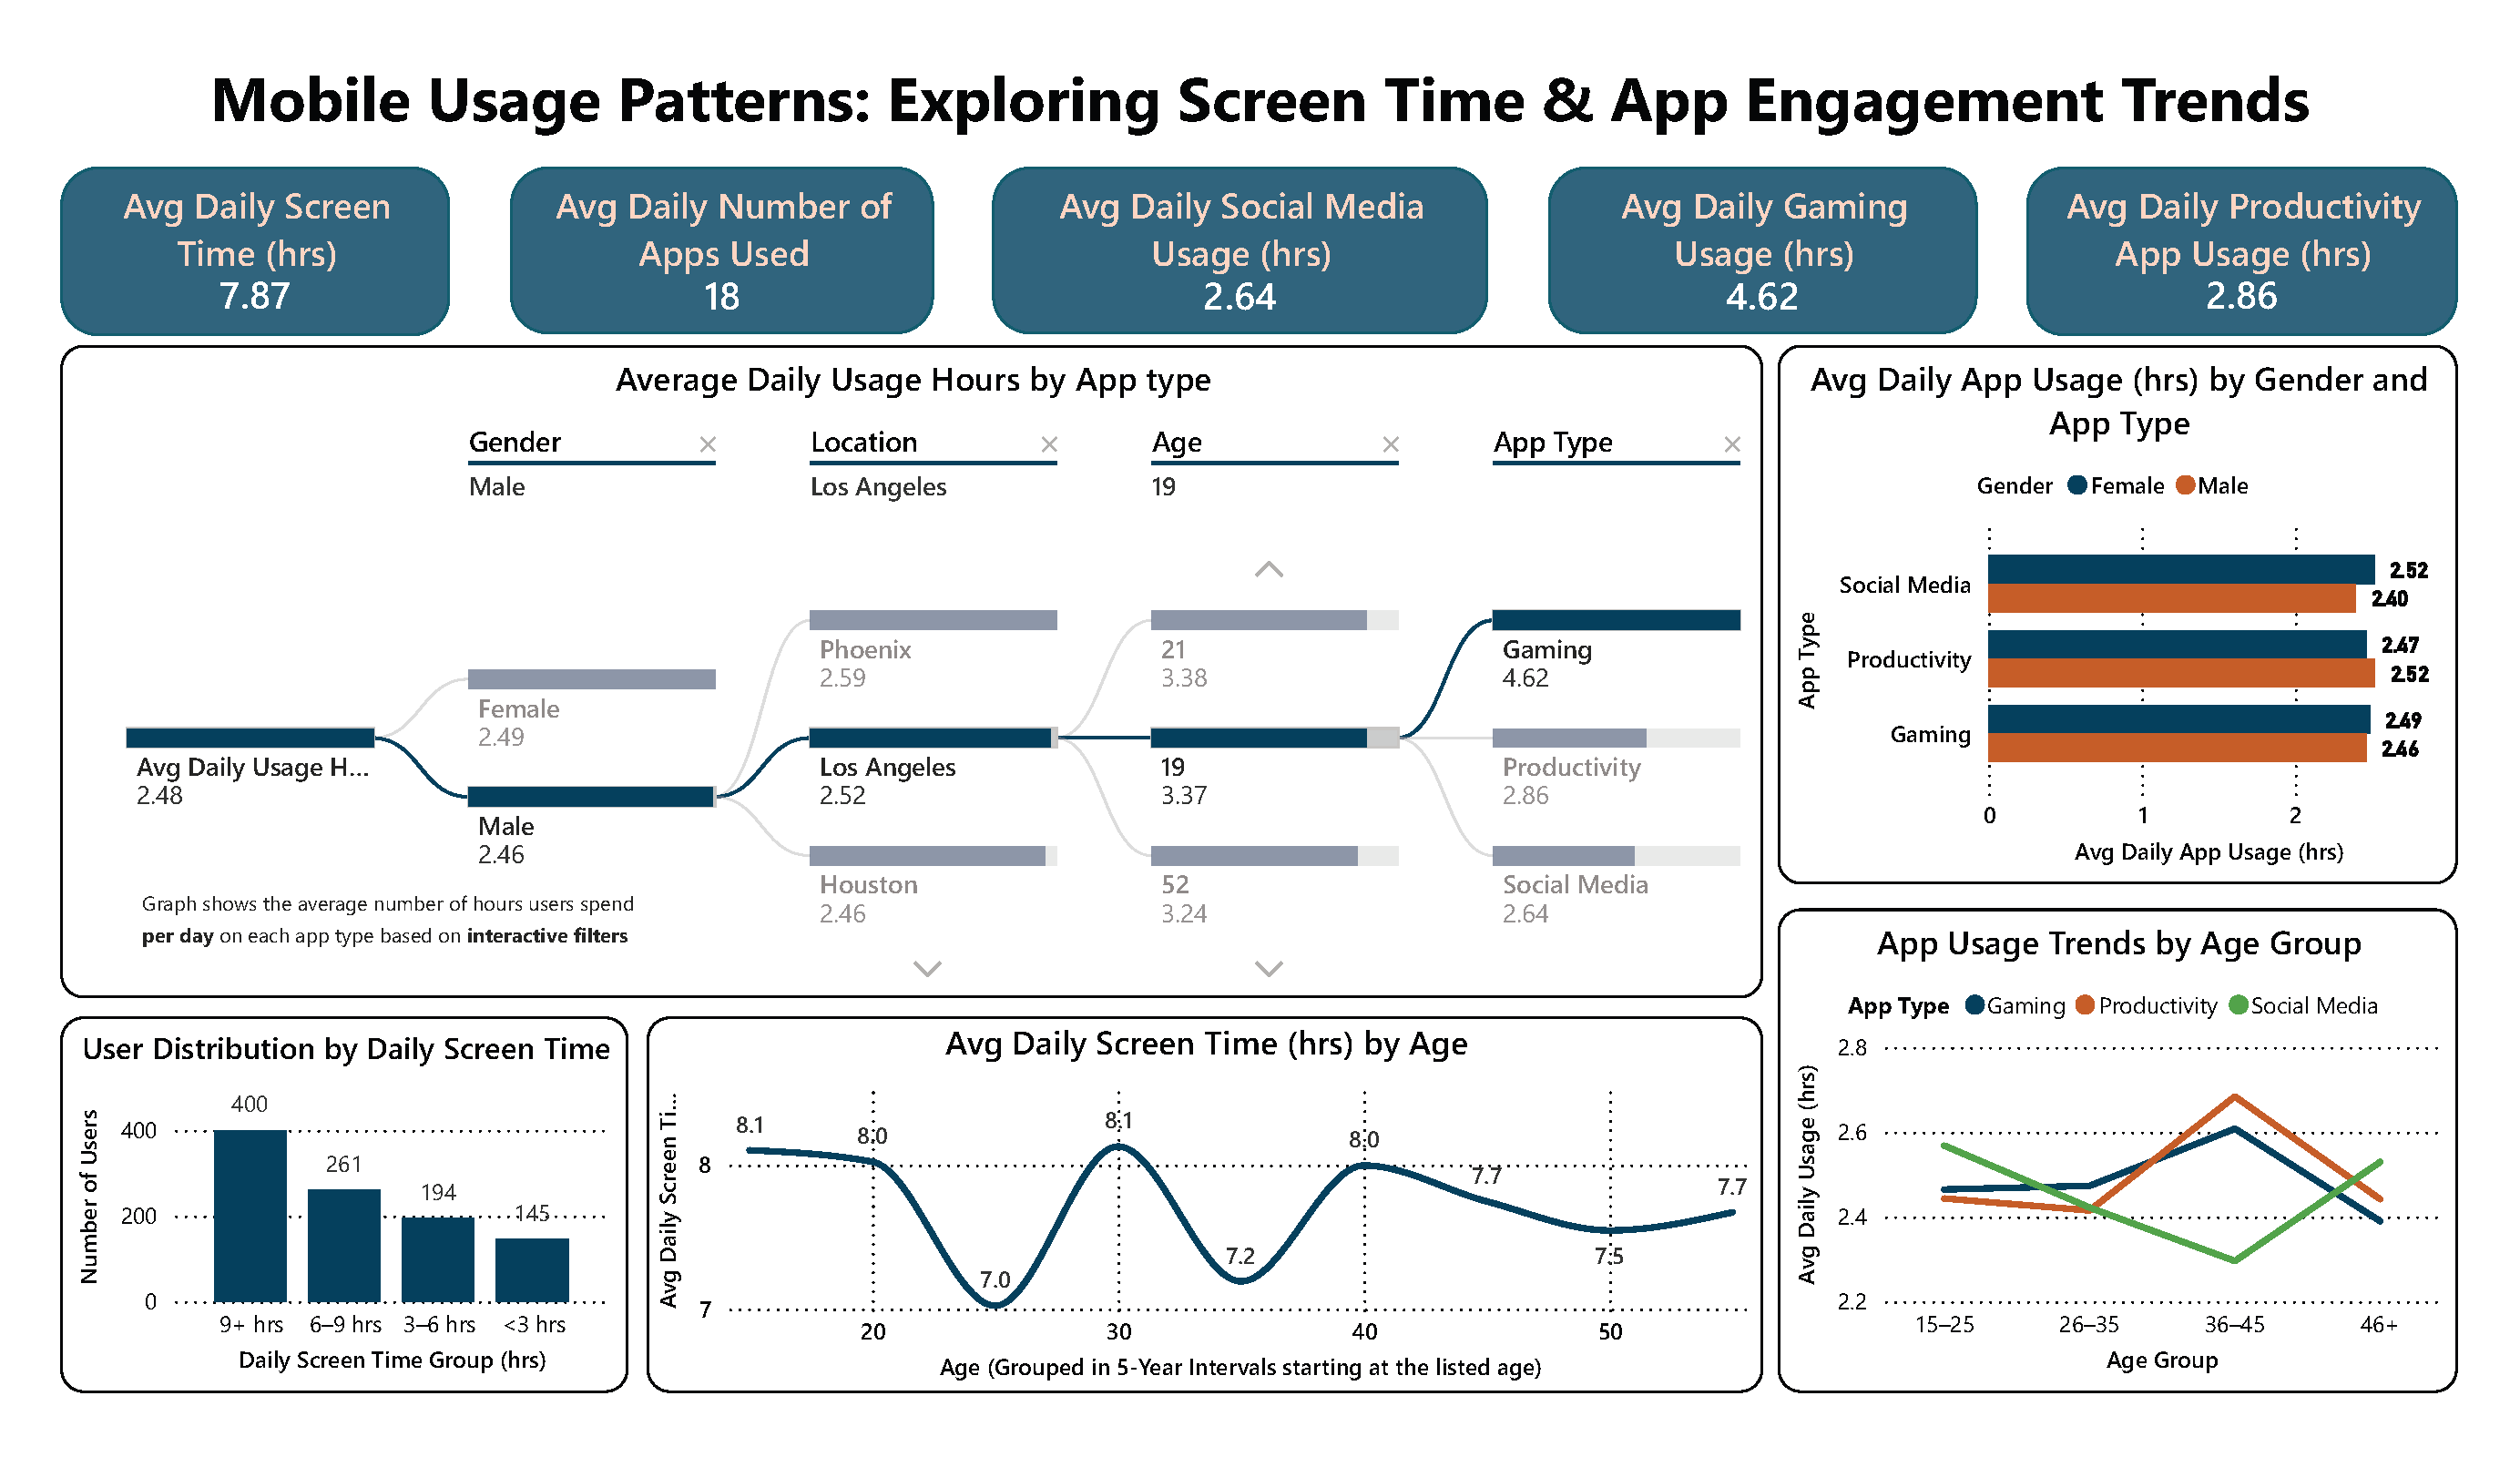

The dashboard page shown, as its layout file describes it:
{"tool":"powerbi","page":{"name":"Page 1","canvas":[1280,720],"ordinal":0},"visuals":[{"type":"textbox","box":[0,0,1280,75.8],"z":0},{"type":"decompositionTreeVisual","title":"Average Daily Usage Hours by App type","fields":{"ExplainBy":["mobile_usage_behavioral_analysis.Gender","mobile_usage_behavioral_analysis.Location","mobile_usage_behavioral_analysis.Age","App_Usage_By_Type.App_Usage_Type"],"Analyze":["App_Usage_By_Type.Avg Daily Usage Hours by App Type"]},"box":[8.1,157.6,897.3,343.9],"z":0,"group":"g1"},{"type":"card","title":"Avg Daily Screen Time (hrs)","fields":{"Values":["Avg(mobile_usage_behavioral_analysis.Daily_Screen_Time_Hours)"]},"box":[8.1,63.6,205.1,89],"z":1000},{"type":"card","title":"Avg Daily Number of Apps Used","fields":{"Values":["Avg(mobile_usage_behavioral_analysis.Number_of_Apps_Used)"]},"box":[245.4,63.6,223,88.7],"z":2000},{"type":"card","title":"Avg Daily Social Media Usage (hrs)","fields":{"Values":["Avg(mobile_usage_behavioral_analysis.Social_Media_Usage_Hours)"]},"box":[499,63.6,260.6,88.7],"z":3000},{"type":"card","title":"Avg Daily Productivity App Usage (hrs)","fields":{"Values":["Avg(mobile_usage_behavioral_analysis.Productivity_App_Usage_Hours)"]},"box":[1044.2,63.6,226.6,89],"z":4000},{"type":"card","title":"Avg Daily Gaming Usage (hrs)","fields":{"Values":["Avg(mobile_usage_behavioral_analysis.Gaming_App_Usage_Hours)"]},"box":[791.6,63.6,226.6,88.7],"z":5000},{"type":"lineChart","title":"Avg Daily Screen Time (hrs) by Age","fields":{"Y":["Avg(mobile_usage_behavioral_analysis.Daily_Screen_Time_Hours)"],"Category":["mobile_usage_behavioral_analysis.Age (bins)"]},"box":[317,512.2,588.4,197.9],"z":6000},{"type":"clusteredColumnChart","title":"User Distribution by Daily Screen Time","fields":{"Category":["mobile_usage_behavioral_analysis.ScreenTimeGroup"],"Y":["CountNonNull(mobile_usage_behavioral_analysis.User_ID)"]},"box":[8.1,512.2,299.1,197.9],"z":7000},{"type":"clusteredBarChart","title":"Avg Daily App Usage (hrs) by Gender and App Type","fields":{"Category":["App_Usage_By_Type.App Type"],"Y":["Avg(App_Usage_By_Type.Usage_Hours)"],"Series":["GenderLookup.Gender"]},"box":[913.4,157.6,357.3,284.8],"z":8000},{"type":"lineChart","title":"App Usage Trends by Age Group","fields":{"Y":["Avg(App_Usage_By_Type.Usage_Hours)"],"Series":["App_Usage_By_Type.App Type"],"Category":["App_Usage_By_Type.Age_Group"]},"box":[913.4,454.9,357.3,255.2],"z":9000},{"type":"textbox","box":[45.9,436.5,281.6,61.4],"z":11000,"group":"g1"},{"type":"group","id":"g1","title":"Group 1","box":[8.1,157.6,897.3,343.9],"z":11001}]}

Visuals, with their boxes in screenshot pixels (x1, y1, x2, y2):
textbox: 59:46:2456:188
"Average Daily Usage Hours by App type" decompositionTreeVisual: 75:341:1755:985
"Avg Daily Screen Time (hrs)" card: 75:165:458:331
"Avg Daily Number of Apps Used" card: 518:165:936:331
"Avg Daily Social Media Usage (hrs)" card: 994:165:1482:331
"Avg Daily Productivity App Usage (hrs)" card: 2015:165:2439:331
"Avg Daily Gaming Usage (hrs)" card: 1542:165:1966:331
"Avg Daily Screen Time (hrs) by Age" lineChart: 653:1005:1755:1376
"User Distribution by Daily Screen Time" clusteredColumnChart: 75:1005:635:1376
"Avg Daily App Usage (hrs) by Gender and App Type" clusteredBarChart: 1770:341:2439:874
"App Usage Trends by Age Group" lineChart: 1770:898:2439:1376
textbox: 145:863:672:978
"Group 1" group: 75:341:1755:985
